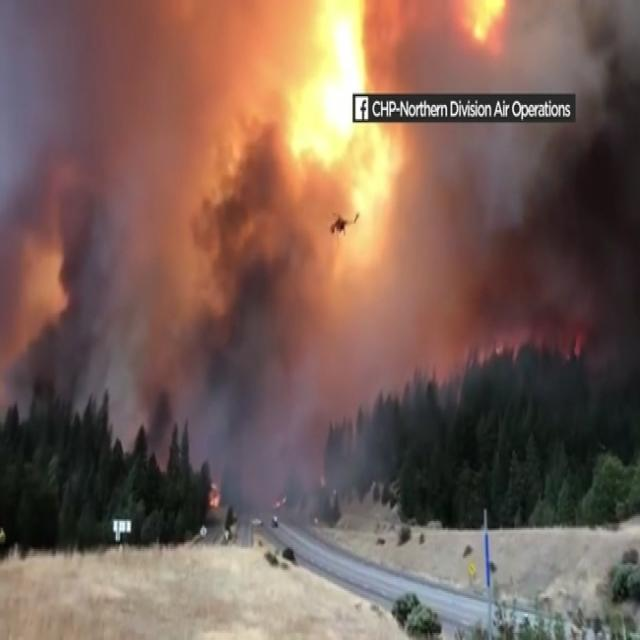Smoke: (0, 0, 631, 512)
